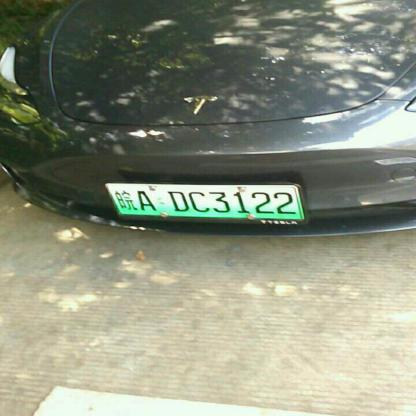lp: (104, 182, 304, 219)
